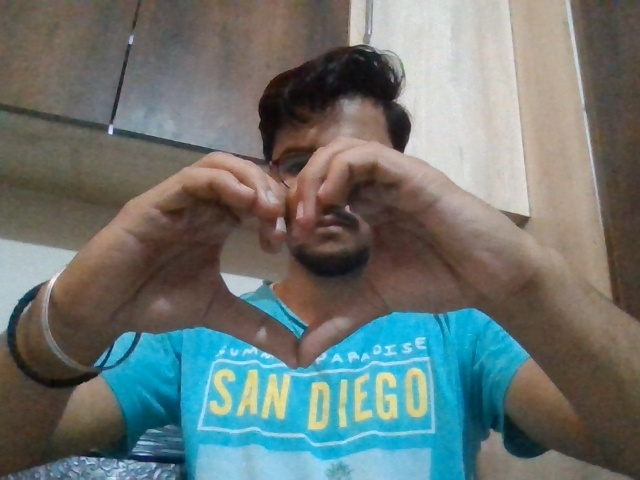iloveyou: (80, 118, 520, 365)
